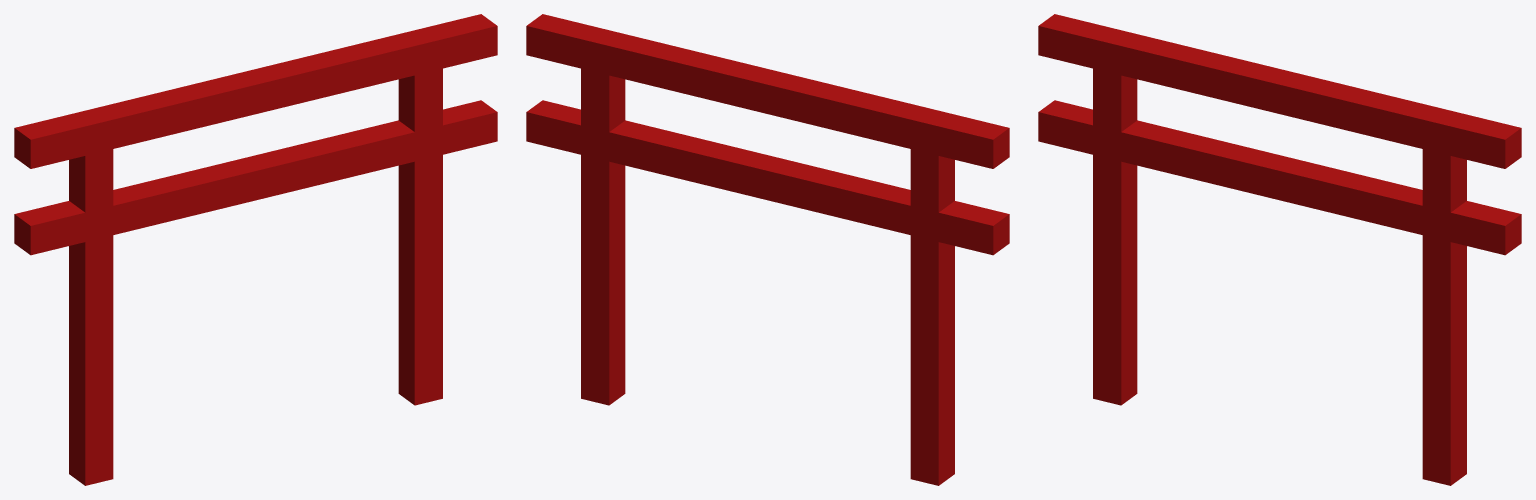
Rendered from Torii.obj.
3 views of the same model, side by side, from view 1: azimuth 30°, elevation 25°; view 2: azimuth 150°, elevation 25°; view 3: azimuth 330°, elevation 25° (orthographic).
Parts seen in each view (by area): view 1: Torii; view 2: Torii; view 3: Torii.
Boxes of the visible parts, bbox=[...] form: Torii: bbox=[14, 14, 497, 485]; Torii: bbox=[526, 14, 1009, 485]; Torii: bbox=[1038, 14, 1521, 485].
Size of the model in its own units: 5.67 by 4.17 by 0.3411.
